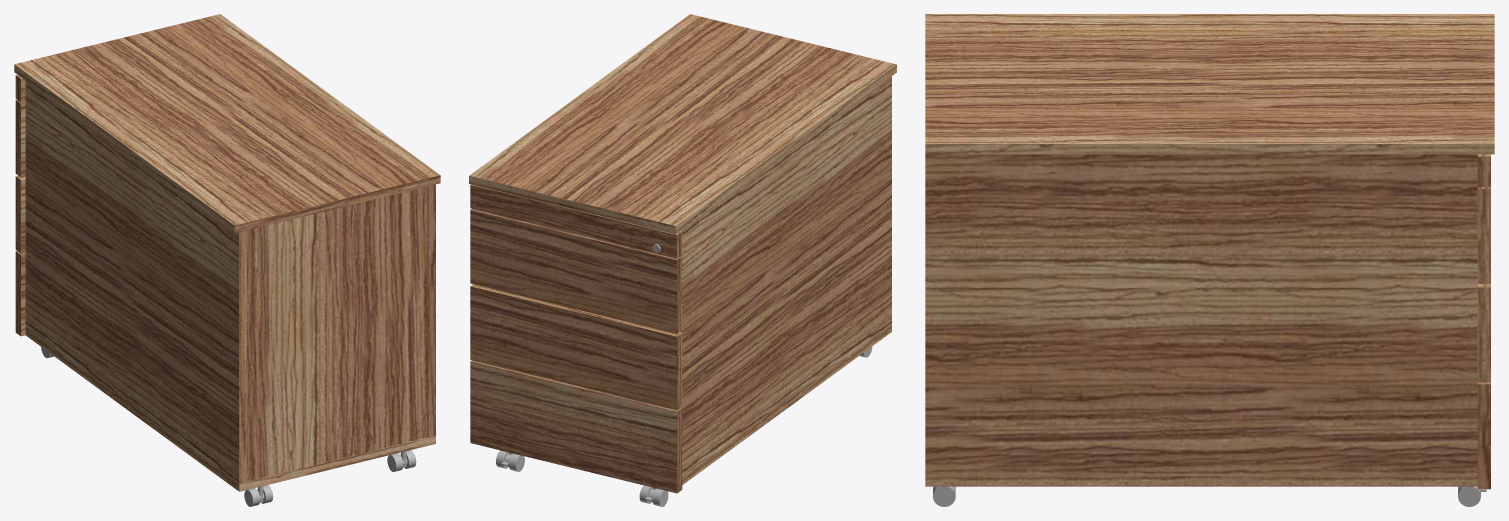
File: cabinet_10HE_41_2_bez_handli_finala.fbx
3 renders of one model, left to right at view 1: azimuth 30°, elevation 25°; view 2: azimuth 150°, elevation 25°; view 3: azimuth 270°, elevation 25°, orthographic. The views are drawn at different scales.
Parts seen in each view (by area): view 1: drewno_mesh (×4), plastic_mesh; view 2: drewno_mesh (×5), plastic_mesh; view 3: drewno_mesh (×4), plastic_mesh.
Boxes of the visible parts, bbox=[...] form: drewno_mesh (×4): bbox=[14, 14, 440, 491]; plastic_mesh: bbox=[41, 347, 416, 506]; drewno_mesh (×5): bbox=[469, 14, 896, 493]; plastic_mesh: bbox=[496, 346, 872, 506]; drewno_mesh (×4): bbox=[925, 14, 1494, 489]; plastic_mesh: bbox=[933, 486, 1486, 506].
Bounding box in the file's own units: 43.2 × 58.4 × 80.
